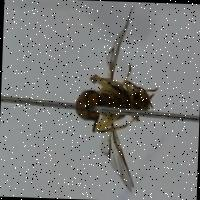Oriental-fruit-fly: (69, 4, 165, 198)
